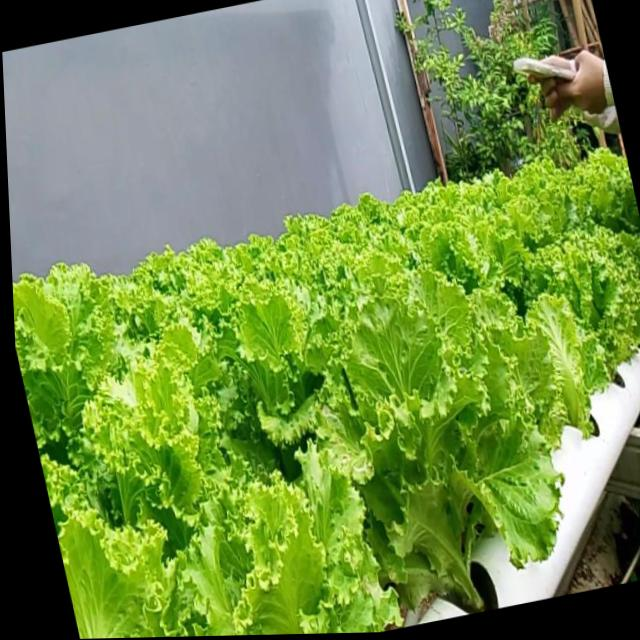Mature: (12, 162, 640, 639), (319, 303, 528, 598), (500, 204, 640, 422)
